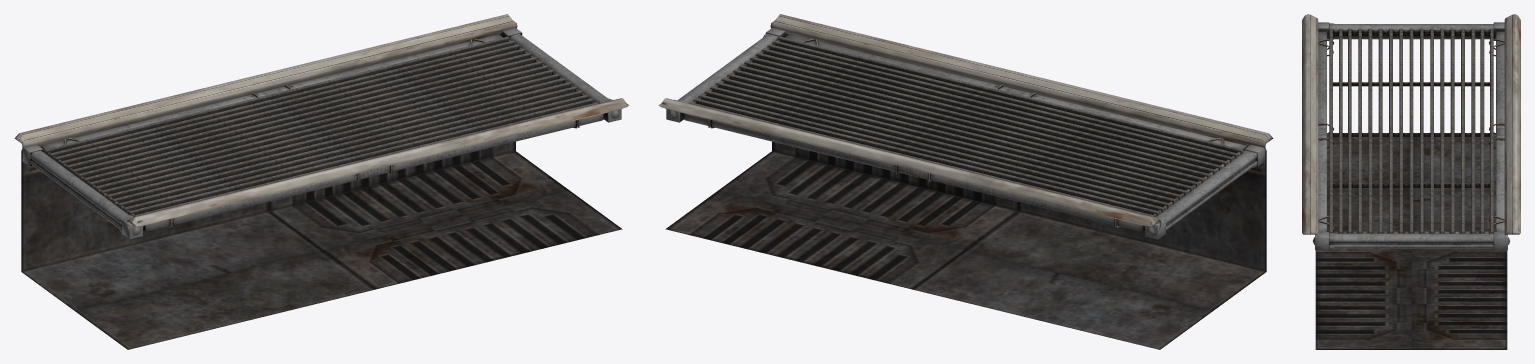
The model's file is lab_pipes_box_grated_straight_empty.dae.
3 views of the same model, side by side, from view 1: azimuth 30°, elevation 25°; view 2: azimuth 150°, elevation 25°; view 3: azimuth 270°, elevation 25° (orthographic). The views are drawn at different scales.
Parts seen in each view (by area): view 1: polySurface8, polySurface24, polySurface3, polySurface13; view 2: polySurface8, polySurface24, polySurface3, polySurface13; view 3: polySurface8, polySurface24, polySurface13, polySurface3.
Part boxes in pixels (x1,y1,x2,y2): polySurface8: [21, 34, 622, 349]; polySurface24: [44, 36, 598, 216]; polySurface3: [14, 14, 629, 229]; polySurface13: [22, 28, 621, 239]; polySurface8: [665, 34, 1266, 349]; polySurface24: [689, 36, 1243, 217]; polySurface3: [658, 14, 1273, 229]; polySurface13: [666, 28, 1265, 239]; polySurface8: [1315, 134, 1507, 349]; polySurface24: [1329, 28, 1493, 233]; polySurface13: [1312, 22, 1510, 250]; polySurface3: [1302, 14, 1520, 241].
Size of the model in its own units: 4 by 1.04 by 1.71.
